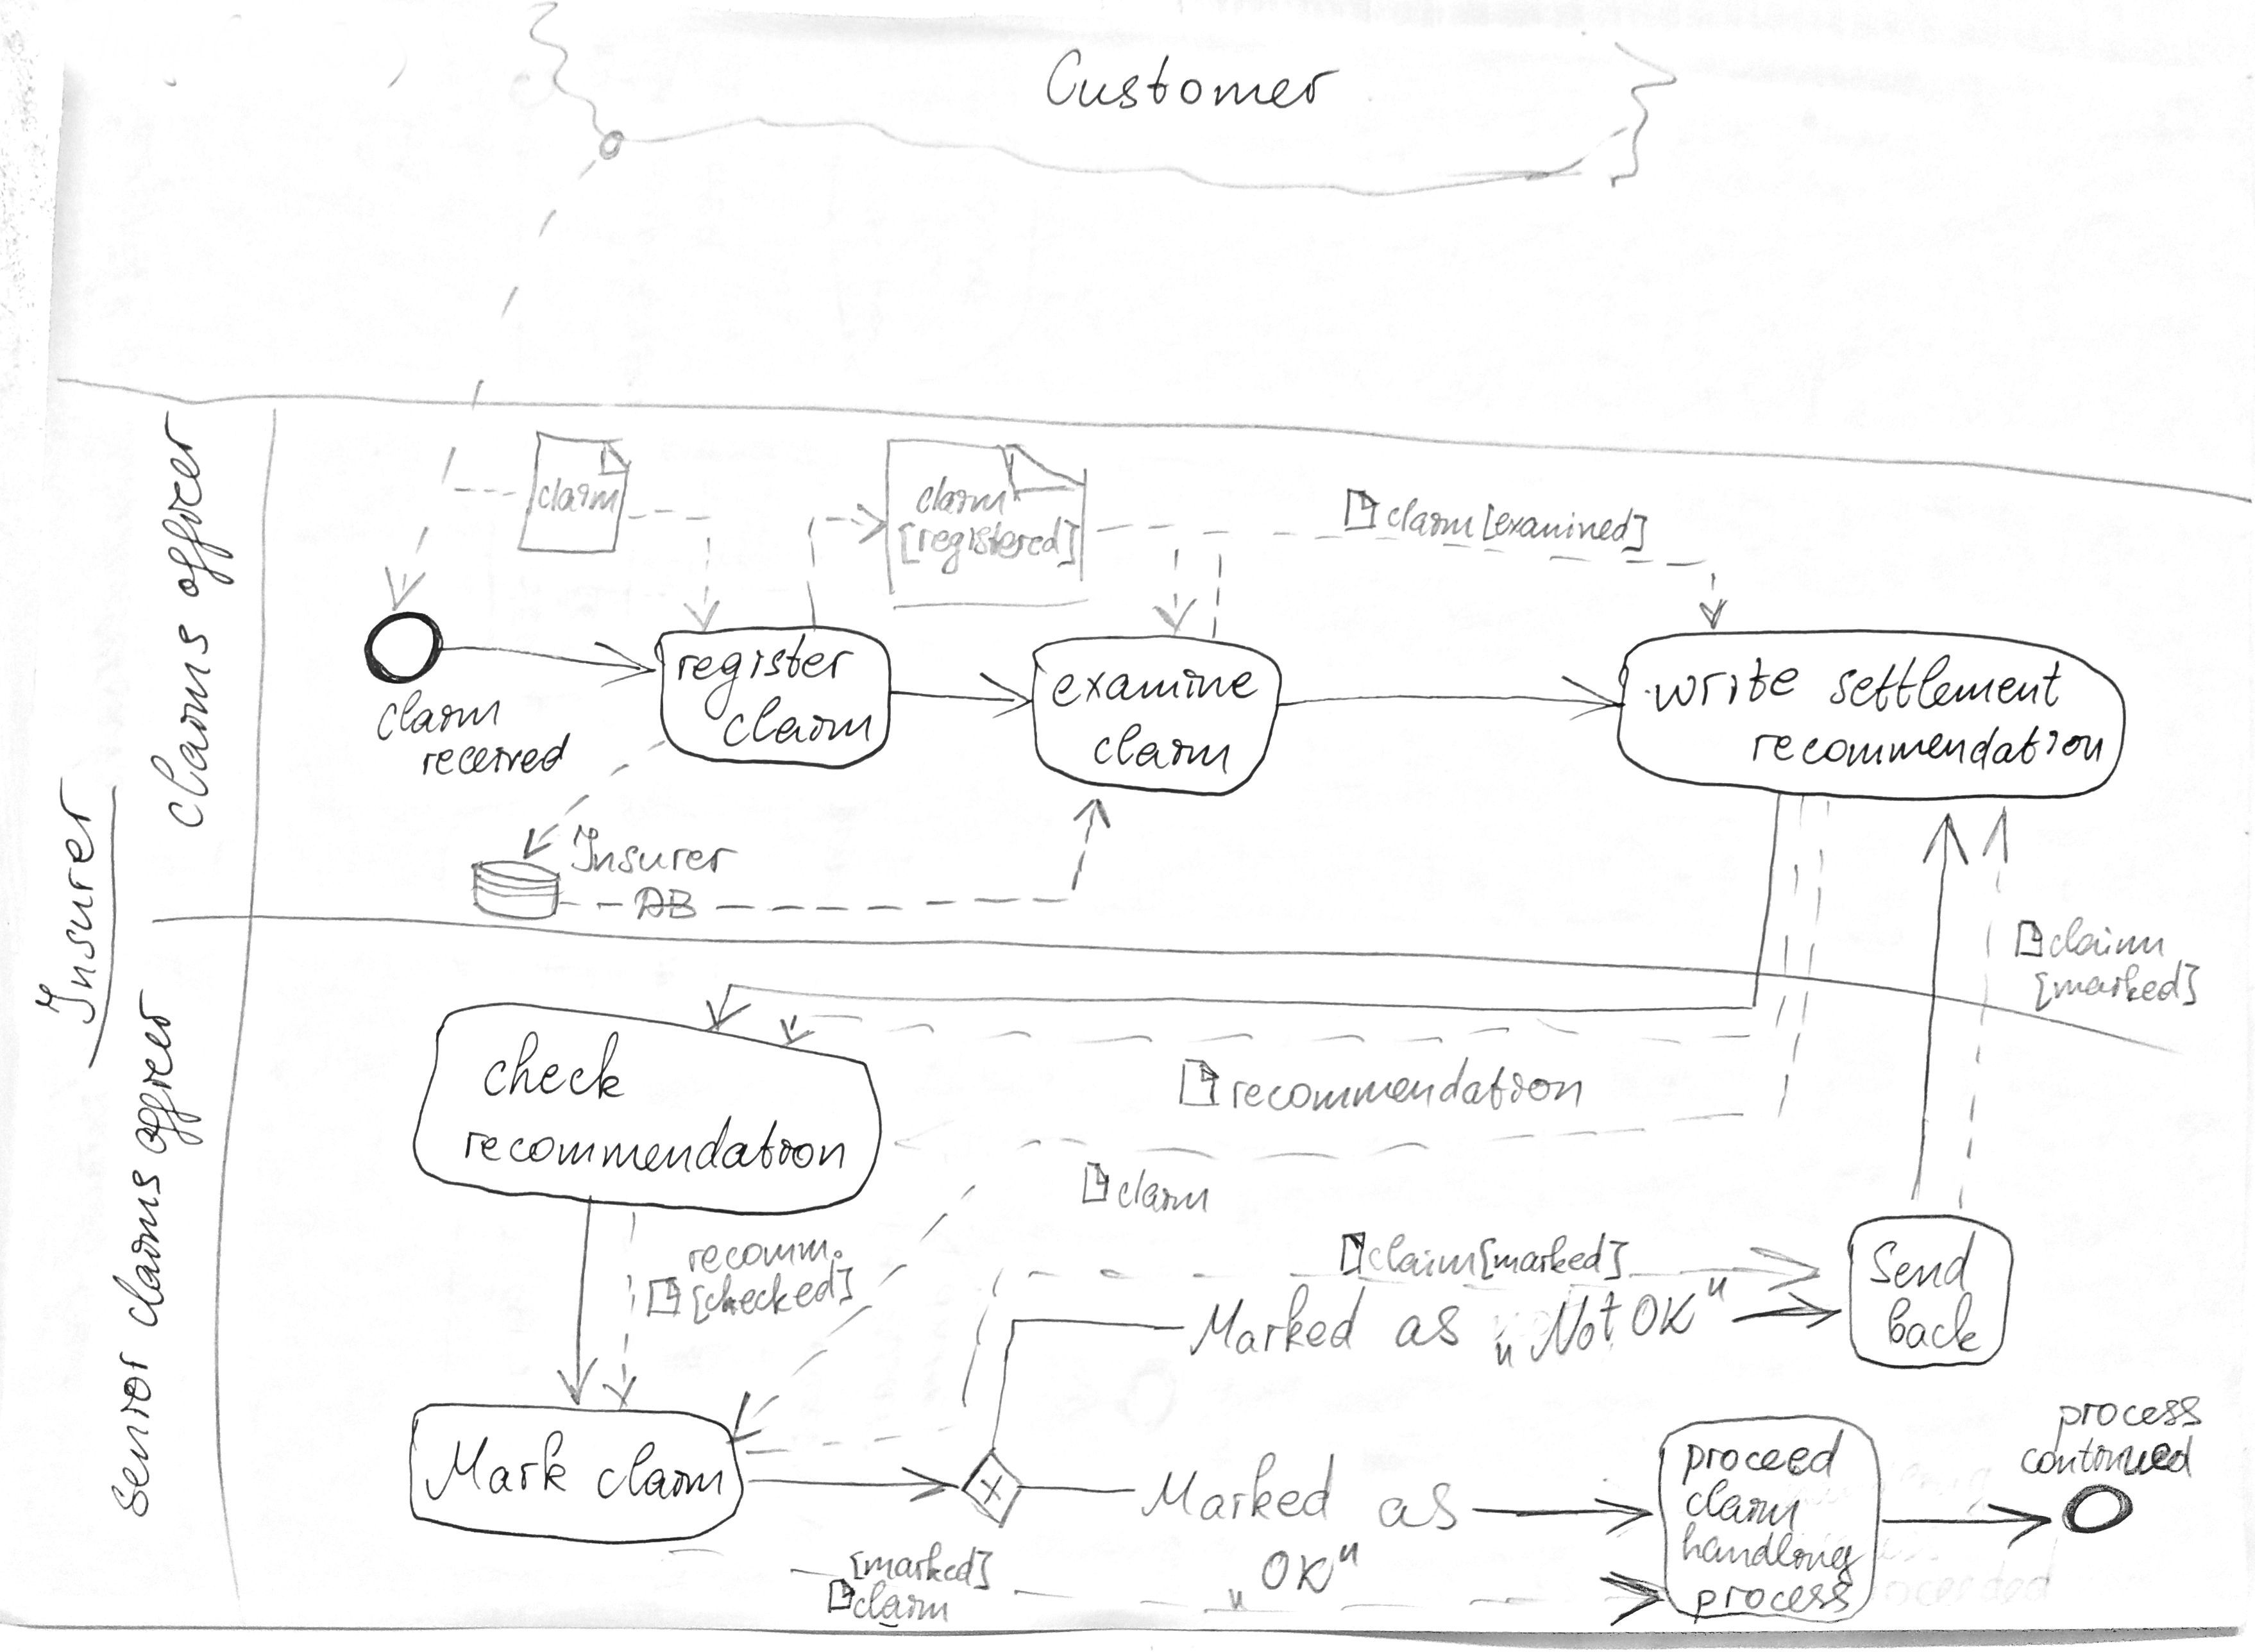Customer: (1038, 42, 1348, 119)
DB: (629, 882, 702, 926)
Insurer: (28, 770, 105, 1031), (566, 819, 744, 882)
Mark: (417, 1424, 576, 1510)
Marked: (1135, 1445, 1343, 1529), (1184, 1276, 1373, 1363)
Not: (1490, 1284, 1626, 1375)
OK: (1222, 1535, 1367, 1619), (1625, 1270, 1733, 1344)
Send: (1861, 1225, 1982, 1297)
[checked]: (688, 1255, 860, 1332)
[examined]: (1478, 499, 1653, 560)
[marked]: (2027, 955, 2206, 1018), (1474, 1227, 1635, 1286), (844, 1536, 998, 1594)
[registered]: (893, 511, 1084, 581)
as: (1369, 1470, 1465, 1540), (1388, 1297, 1471, 1356)
back: (1882, 1286, 1987, 1358)
check: (474, 1022, 632, 1108)
claim: (716, 688, 881, 754), (590, 1435, 732, 1507), (1087, 717, 1236, 780), (369, 684, 506, 747), (1679, 1473, 1807, 1540), (2043, 912, 2169, 964), (1362, 1228, 1483, 1283), (909, 471, 1014, 523), (1113, 1164, 1215, 1218), (847, 1575, 954, 1626), (1383, 493, 1479, 544), (534, 472, 623, 520)
claims: (144, 616, 217, 835), (105, 1164, 170, 1333)
continued: (2015, 1428, 2199, 1484)
examine: (1043, 663, 1264, 716)
handling: (1675, 1515, 1872, 1591)
officer: (156, 404, 242, 605), (128, 982, 210, 1160)
proceed: (1675, 1421, 1852, 1493)
process: (2048, 1389, 2209, 1459), (1686, 1573, 1861, 1631)
received: (417, 728, 576, 784)
recomm.: (681, 1232, 847, 1281)
recommendation: (455, 1109, 854, 1181), (1224, 1046, 1591, 1120), (1746, 717, 2110, 779)
register: (671, 628, 861, 728)
senior: (103, 1342, 159, 1524)
settlement: (1821, 647, 2069, 719)
write: (1647, 651, 1805, 721)
